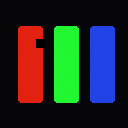1 square: (36, 39, 44, 47)
